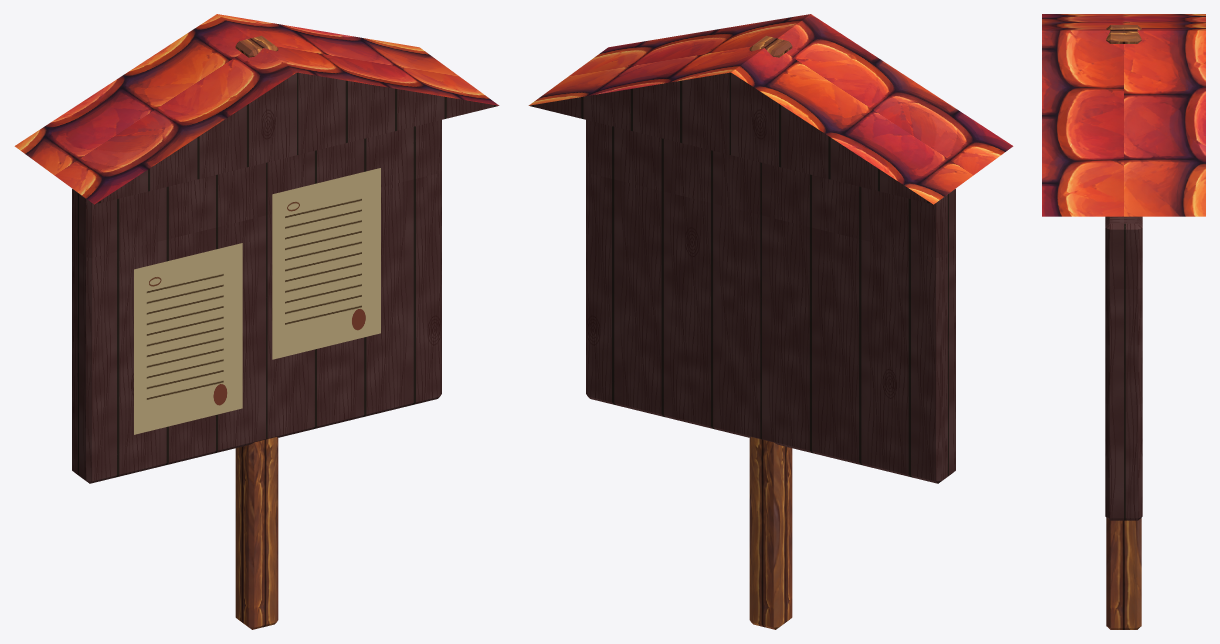
Rendered from Noticeboard.fbx.
3 views of the same model, side by side, from view 1: azimuth 30°, elevation 25°; view 2: azimuth 150°, elevation 25°; view 3: azimuth 270°, elevation 25° (orthographic). The views are drawn at different scales.
Parts seen in each view (by area): view 1: Noticeboard.001; view 2: Noticeboard.001; view 3: Noticeboard.001.
Part boxes in pixels (left/top/right/bottom): Noticeboard.001: left=14, top=14, right=499, bottom=629; Noticeboard.001: left=528, top=14, right=1013, bottom=629; Noticeboard.001: left=1042, top=14, right=1205, bottom=629.
Size of the model in its own units: 205 by 280 by 70.
4 materials, 4 textured.
